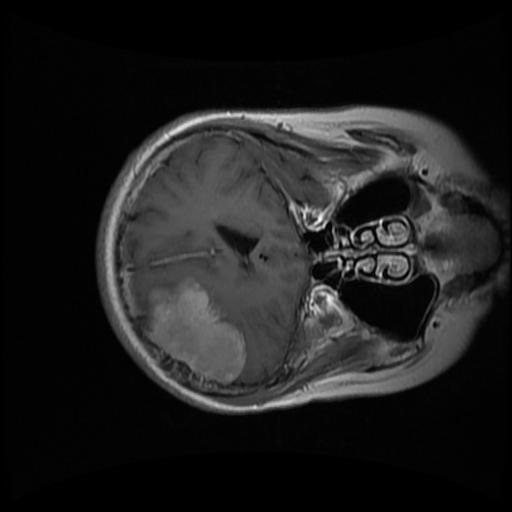meningioma: (142, 278, 247, 386)
